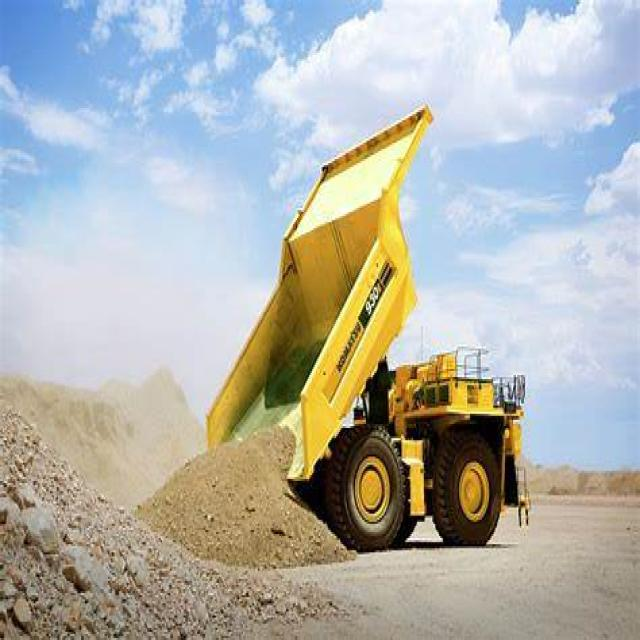dump_truck: (192, 83, 538, 554)
